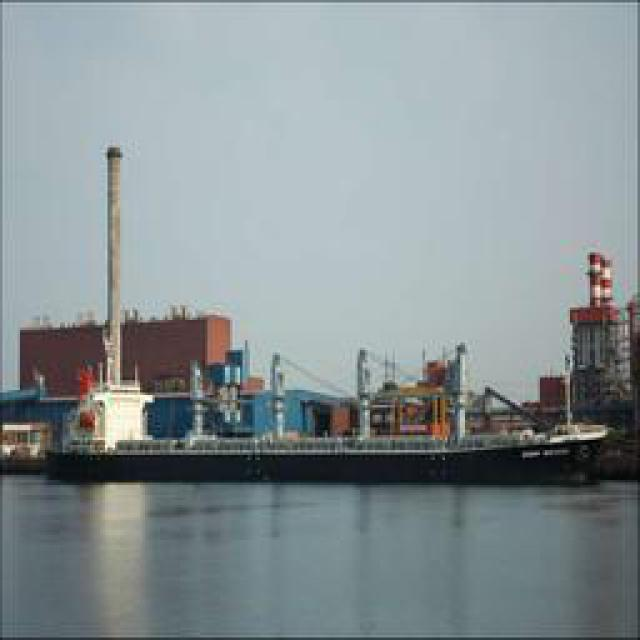Ship: (25, 320, 625, 488)
